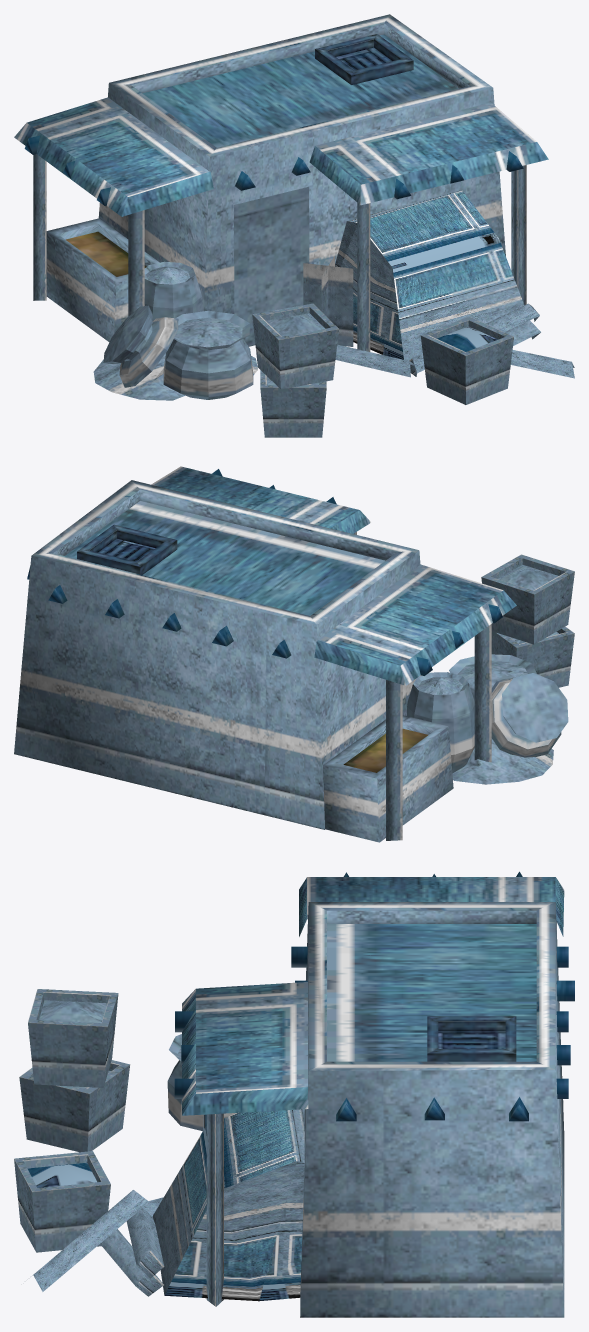
File: mining_camp_base.glb
3 renders of one model, top to bottom at view 1: azimuth 30°, elevation 25°; view 2: azimuth 150°, elevation 25°; view 3: azimuth 270°, elevation 25°, orthographic. The views are drawn at different scales.
Parts seen in each view (by area): view 1: MeshRoot; view 2: MeshRoot; view 3: MeshRoot.
Part boxes in pixels (x1=…): MeshRoot: x1=14, y1=14, x2=574, y2=437; MeshRoot: x1=14, y1=466, x2=574, y2=842; MeshRoot: x1=14, y1=871, x2=574, y2=1317.
Size of the model in its own units: 4.33 by 2.03 by 4.11.
Materials: 1 (1 with a texture image).
